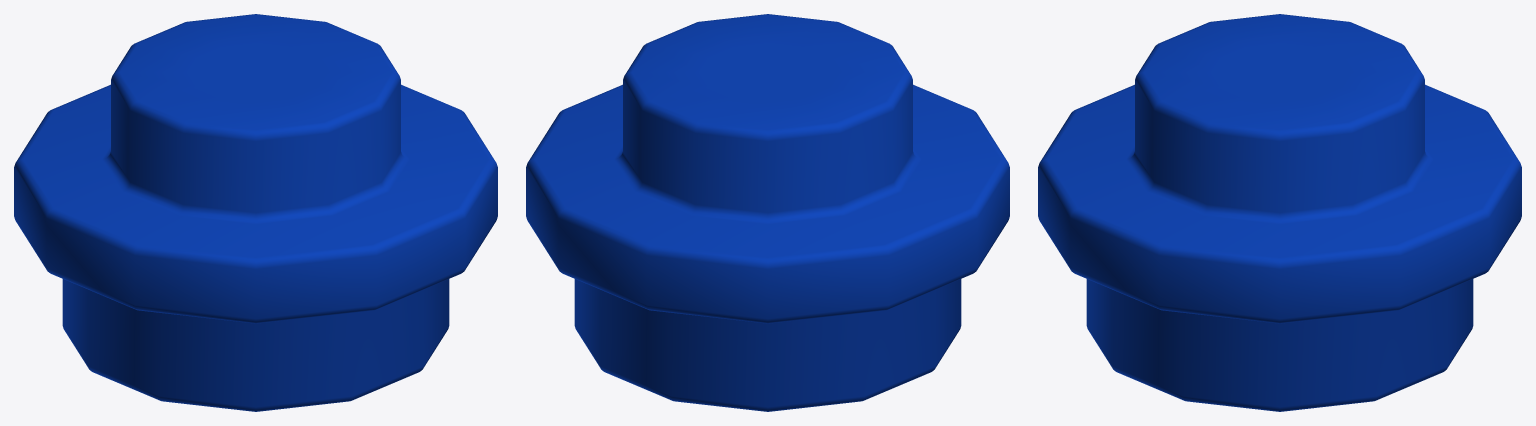
Rendered from LEGO_Blue_Coin.fbx.
The picture shows the model from 3 angles, left to right: view 1: azimuth 30°, elevation 25°; view 2: azimuth 150°, elevation 25°; view 3: azimuth 270°, elevation 25°; orthographic projection.
Parts seen in each view (by area): view 1: Stud_Blue; view 2: Stud_Blue; view 3: Stud_Blue.
Boxes of the visible parts, x1,y1,x2,y2 form: Stud_Blue: (14, 14, 497, 411); Stud_Blue: (526, 14, 1009, 411); Stud_Blue: (1038, 14, 1521, 411).
Size of the model in its own units: 27.94 by 27.94 by 16.62.
